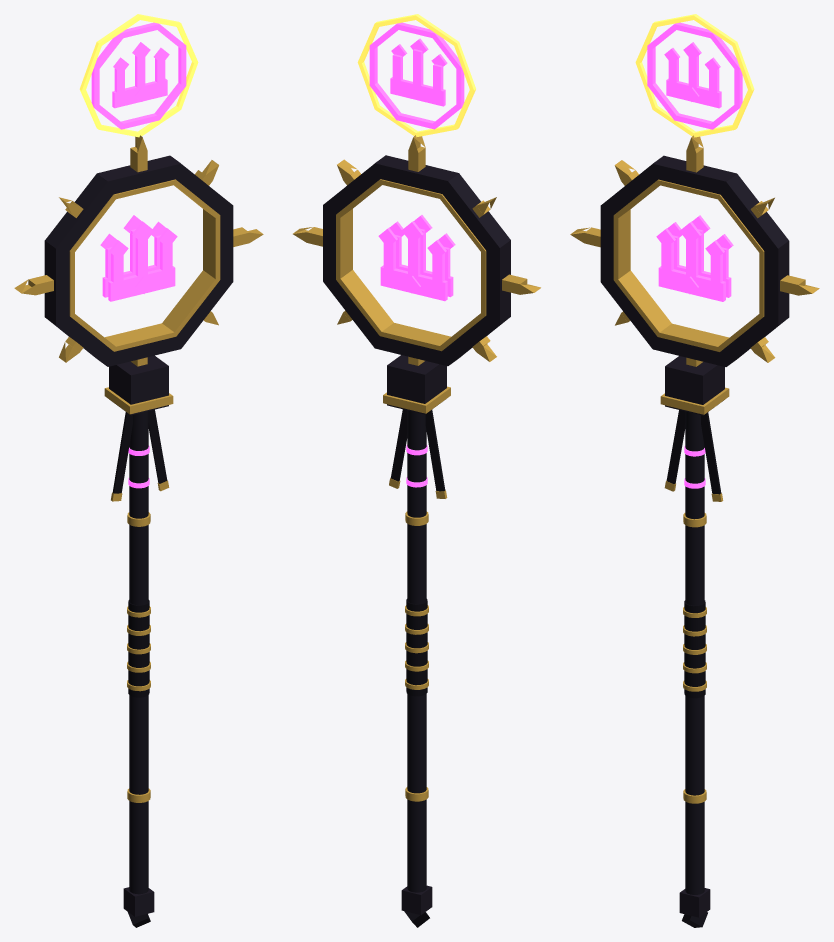
3 renders of one model, left to right at view 1: azimuth 30°, elevation 25°; view 2: azimuth 150°, elevation 25°; view 3: azimuth 330°, elevation 25°, orthographic.
Parts seen in each view (by area): view 1: paragon-scepter; view 2: paragon-scepter; view 3: paragon-scepter.
Part boxes in pixels (box(x1,y1,x2,y2)): paragon-scepter: box(14, 14, 263, 927); paragon-scepter: box(293, 14, 540, 927); paragon-scepter: box(570, 14, 819, 927).
Size of the model in its own units: 0.6479 by 2.33 by 0.1159.
